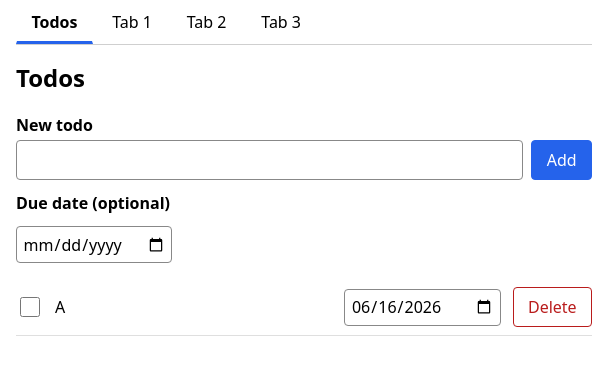
UI19 due-date change › UI19 on failure the input reverts to the server value and #status shows the error
This screenshot has width=609, height=391.
Type "2026-06-14" into the date field named "Due date for \"A\"". click: (422, 307)
box: [344,288,501,326]
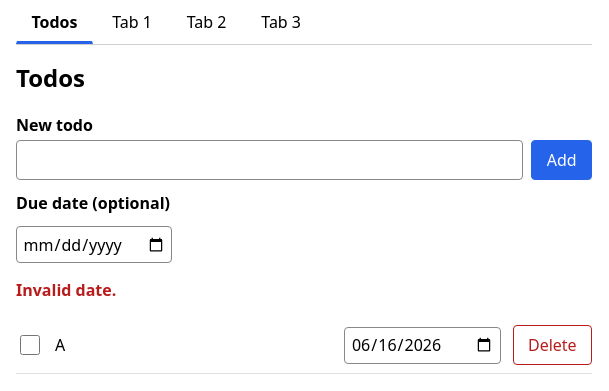
Result: the message with id "status" reads "Invalid date." at [16,279,116,301]
